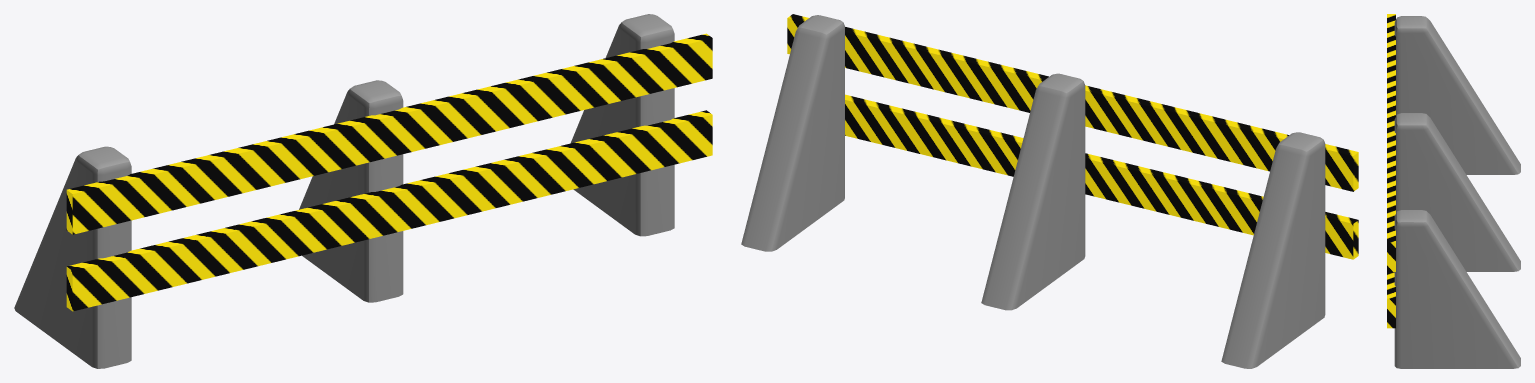
File: crashbarrier.glb
3 views of the same model, side by side, from view 1: azimuth 30°, elevation 25°; view 2: azimuth 150°, elevation 25°; view 3: azimuth 270°, elevation 25° (orthographic). The views are drawn at different scales.
Visible parts, largest first — view 1: barrier_wall, barrier_base; view 2: barrier_base, barrier_wall; view 3: barrier_base, barrier_wall.
Boxes of the visible parts, bbox=[...] form: barrier_wall: bbox=[66, 33, 712, 311]; barrier_base: bbox=[14, 14, 674, 368]; barrier_base: bbox=[741, 15, 1325, 368]; barrier_wall: bbox=[787, 14, 1358, 259]; barrier_base: bbox=[1394, 16, 1520, 368]; barrier_wall: bbox=[1387, 14, 1395, 328].
Size of the model in its own units: 16.5 by 4.98 by 4.08.
Materials: 2 (1 with a texture image).
